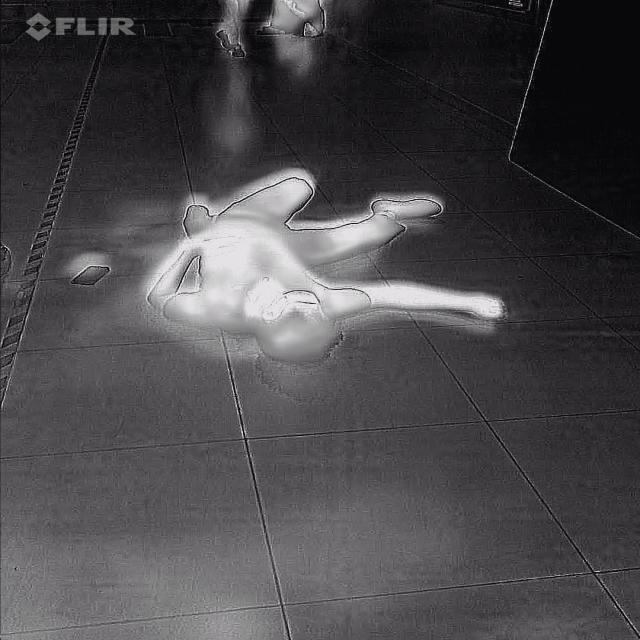Victim: (147, 157, 512, 364), (260, 0, 330, 42)
